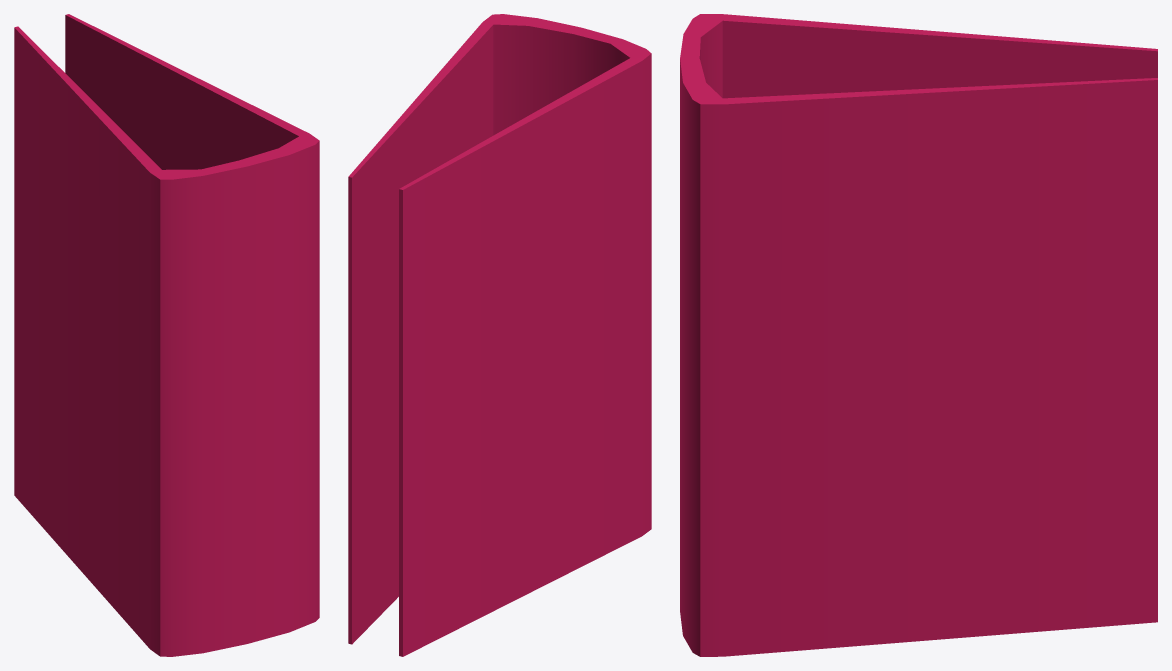
File: SM_Folder.fbx
3 views of the same model, side by side, from view 1: azimuth 30°, elevation 25°; view 2: azimuth 150°, elevation 25°; view 3: azimuth 270°, elevation 25° (orthographic). The views are drawn at different scales.
Parts seen in each view (by area): view 1: Folder_lp; view 2: Folder_lp; view 3: Folder_lp.
Part boxes in pixels (x1,y1,x2,y2): Folder_lp: (14,14,319,656); Folder_lp: (348,14,651,656); Folder_lp: (680,14,1157,656).
Bounding box in the file's own units: 1.04 × 2.98 × 2.33.
